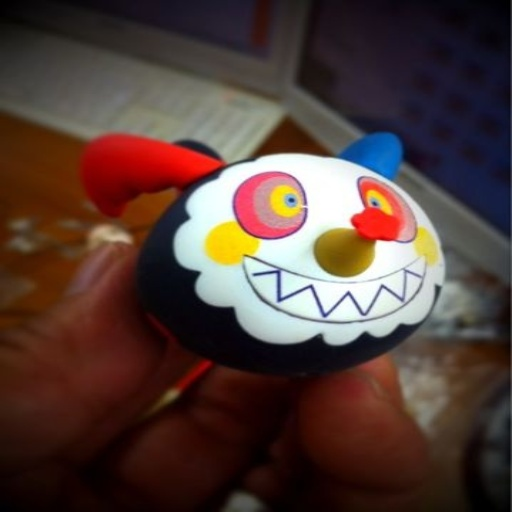hand: (0, 245, 389, 510)
